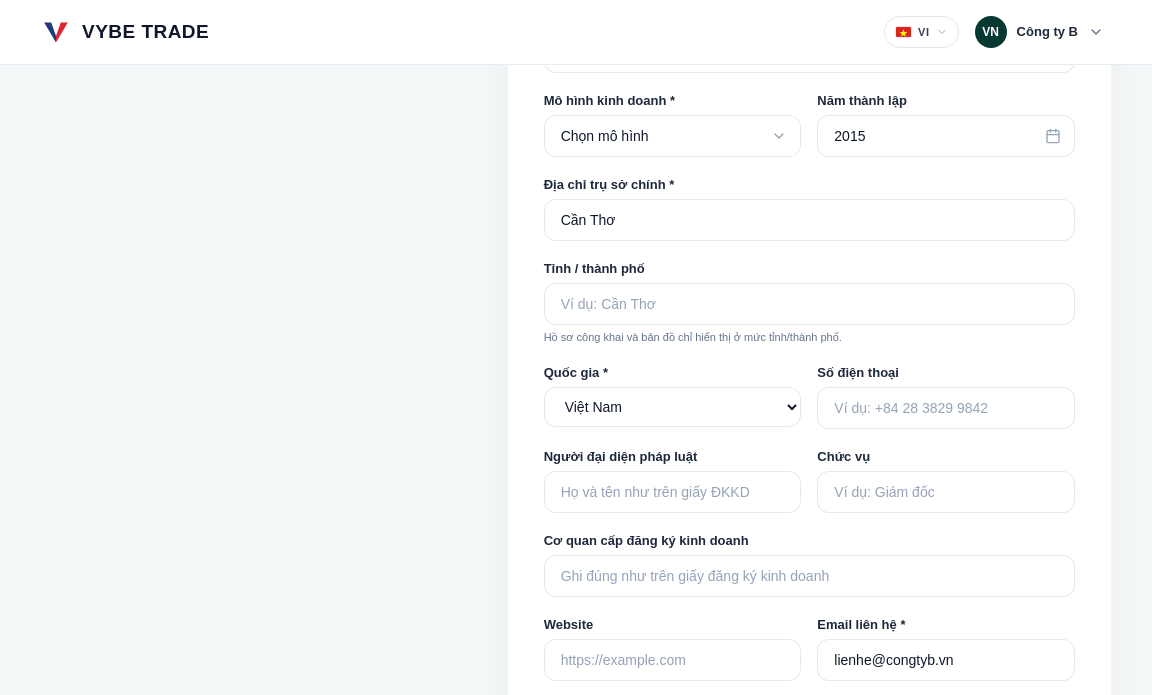
Scenario: route hồ sơ exporter dùng sản phẩm trên server (B5) › server từ chối sản phẩm (422): báo lỗi có tên sản phẩm ngay ở bước 2, không sang bước sau
(page scrolled)
Submit the form named "Tiếp tục"
(page scrolled)
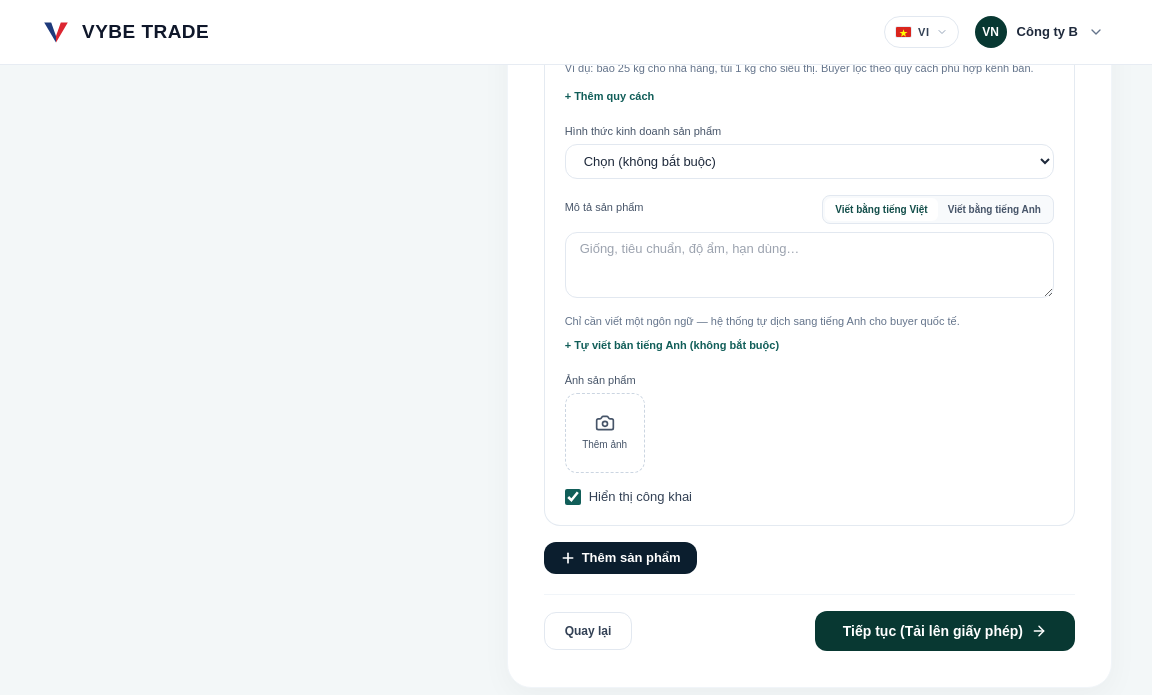
Click the button "Tiếp tục (Tải lên giấy phép)": (945, 630) [815, 610, 1075, 650]
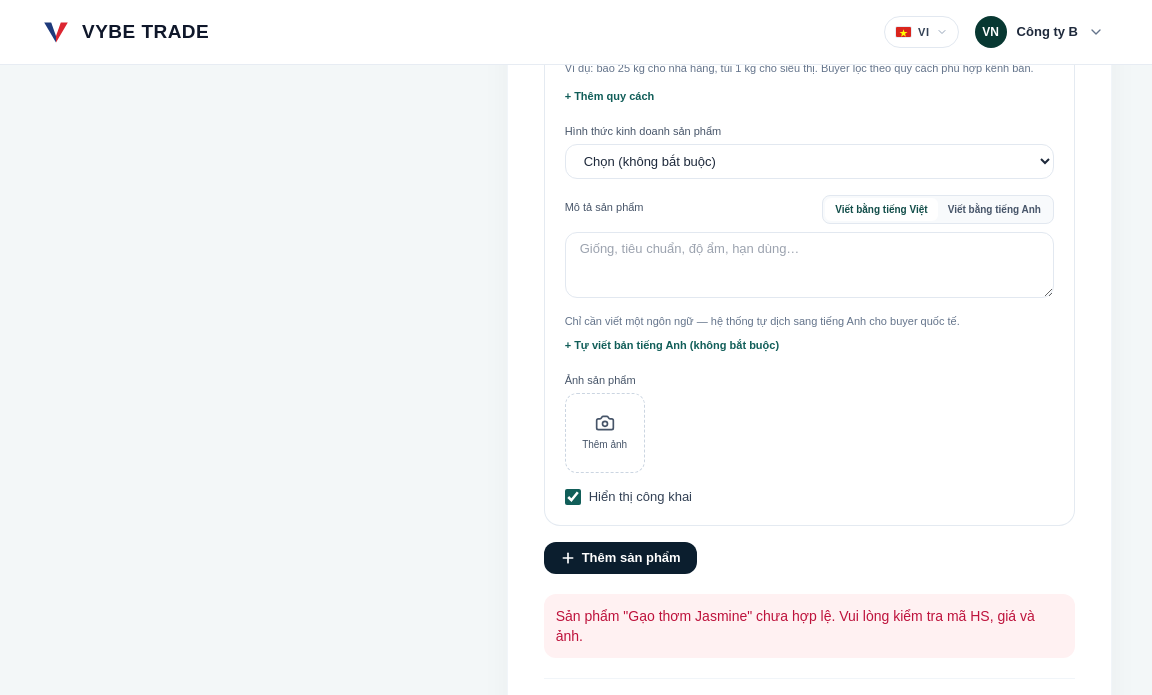
Expected: the message shows "Sản phẩm \"Gạo thơm Jasmine\" chưa hợp lệ", [556, 608, 1035, 644]
